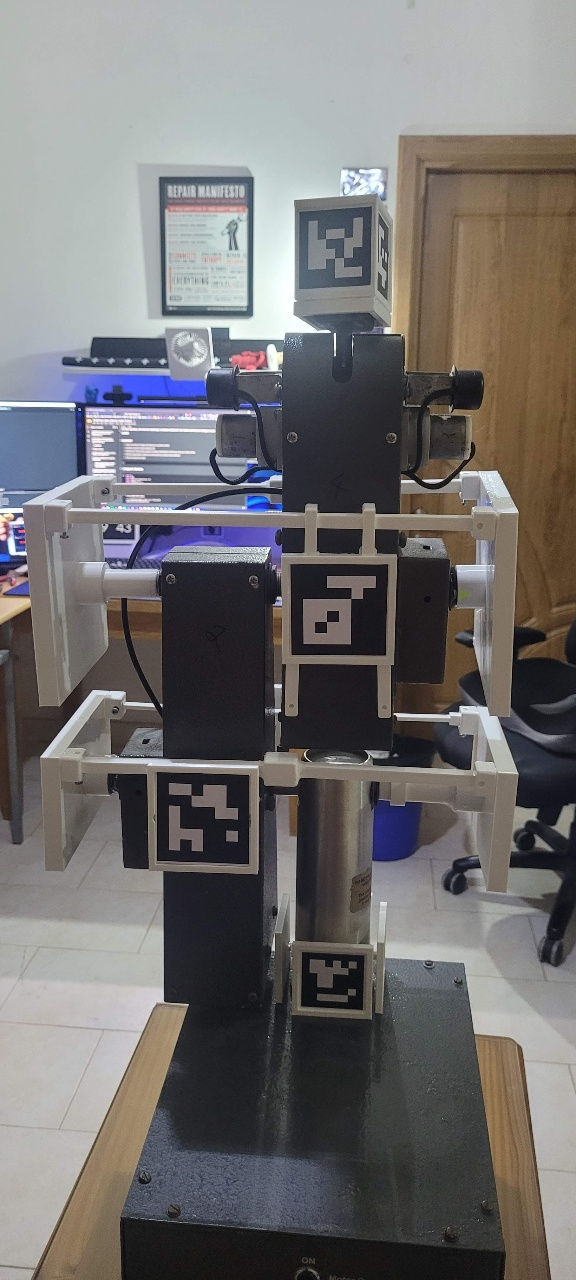Robot: (8, 253, 499, 1189)
